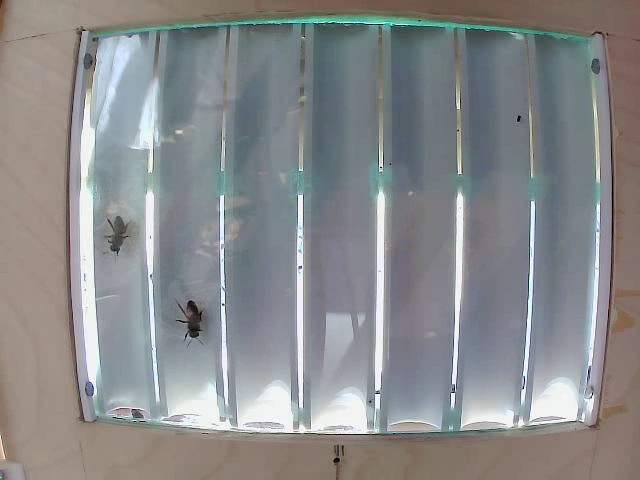bee: (181, 291, 213, 352)
